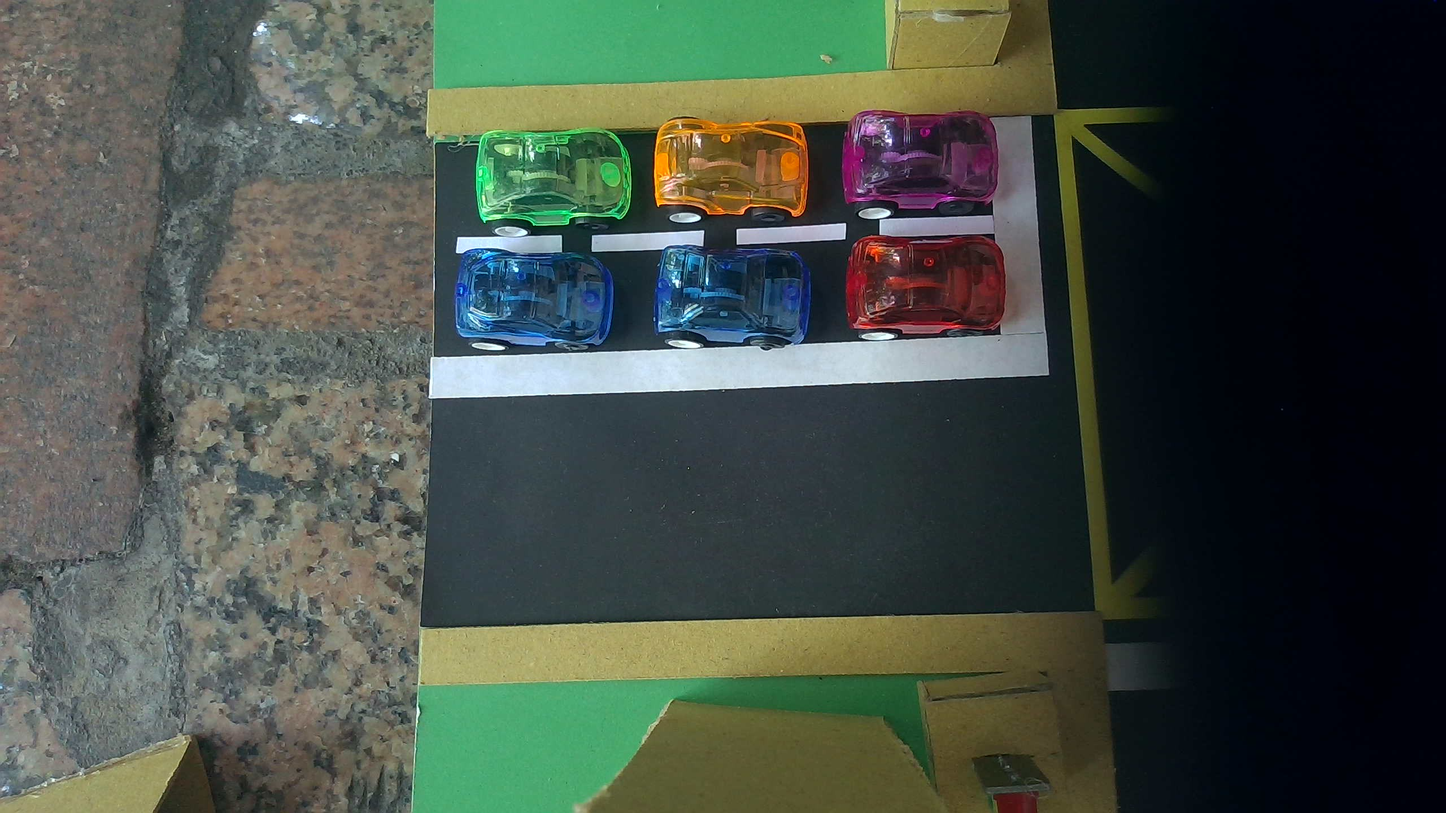Mobil biru: (455, 248, 614, 351), (655, 246, 811, 349)
Mobil hijau: (475, 128, 631, 235)
Mobil merah: (846, 236, 1006, 340)
Mobil orange: (653, 117, 809, 223)
Mobil ungu: (842, 110, 999, 218)
